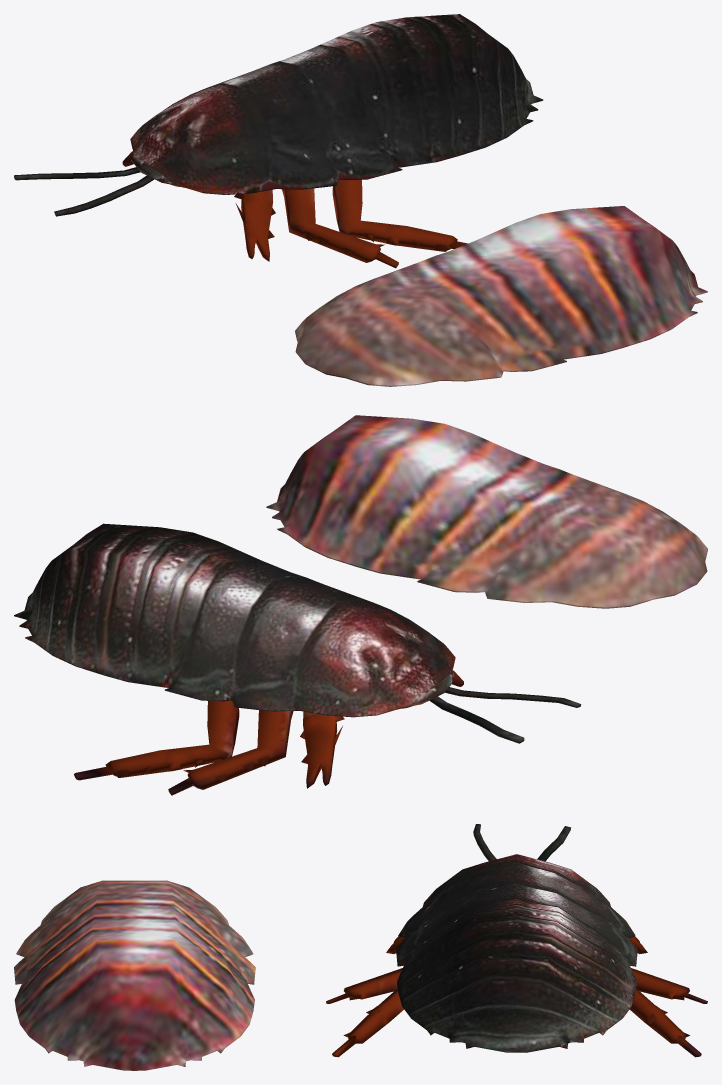
Rendered from tubiechong.FBX.
3 renders of one model, top to bottom at view 1: azimuth 30°, elevation 25°; view 2: azimuth 150°, elevation 25°; view 3: azimuth 270°, elevation 25°, orthographic. The views are drawn at different scales.
Parts seen in each view (by area): view 1: Line001, Line002; view 2: Line001, Line002; view 3: Line001, Line002.
Part boxes in pixels (x1=…): Line001: x1=14, y1=14, x2=543, y2=268; Line002: x1=295, y1=206, x2=707, y2=386; Line001: x1=14, y1=523, x2=581, y2=795; Line002: x1=266, y1=415, x2=707, y2=608; Line001: x1=326, y1=824, x2=707, y2=1057; Line002: x1=14, y1=880, x2=255, y2=1070.
Size of the model in its own units: 42.65 by 12.6 by 54.67.
1 material, 1 textured.
